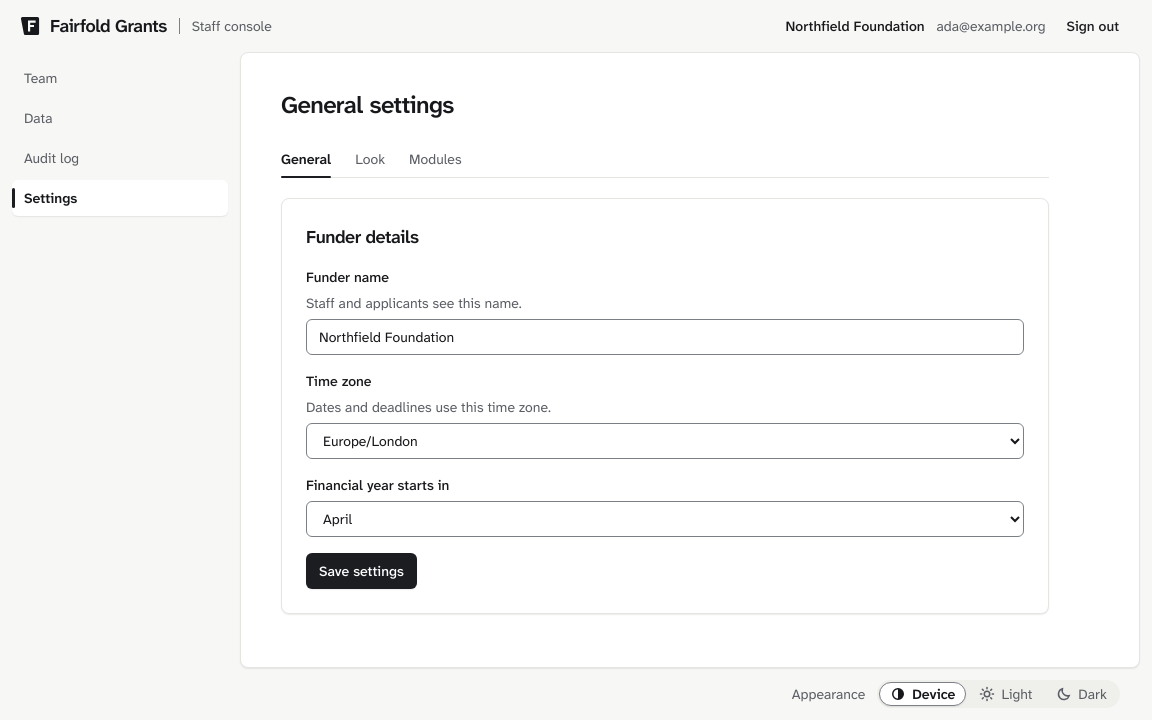
Scenario: the general settings page › checks the name before sending, so an empty name is never sent
Clear the field labelled "Funder name" at (665, 337), box [306, 319, 1024, 355]
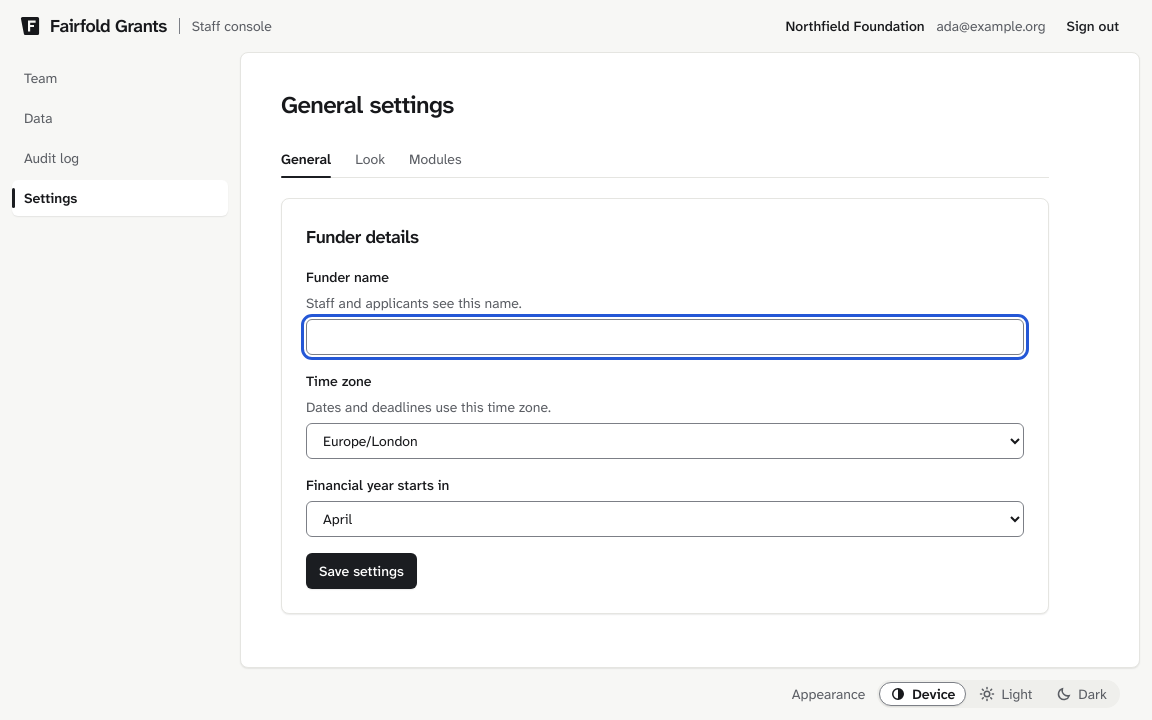
Click the button "Save settings".
click(361, 571)  # box [306, 553, 417, 589]
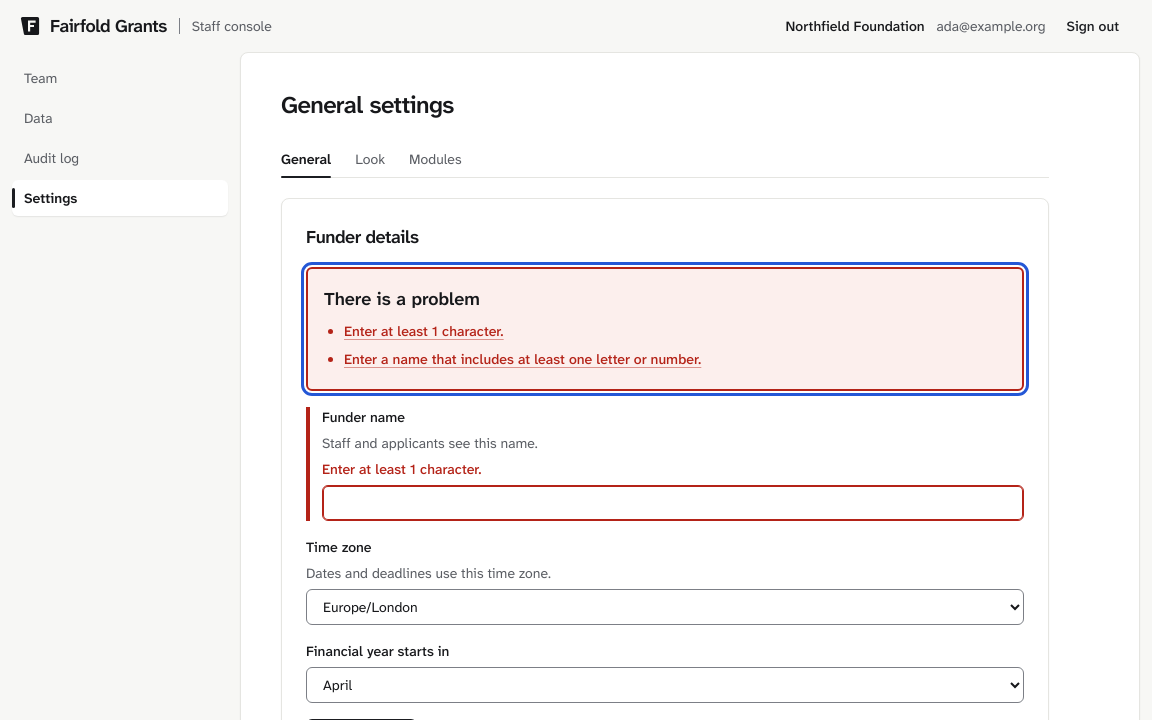
Check: the message "There is a problem" is shown, box [306, 267, 1024, 391]
